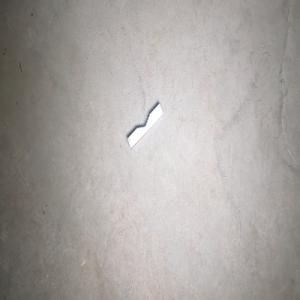ClampPart: (127, 102, 164, 149)
